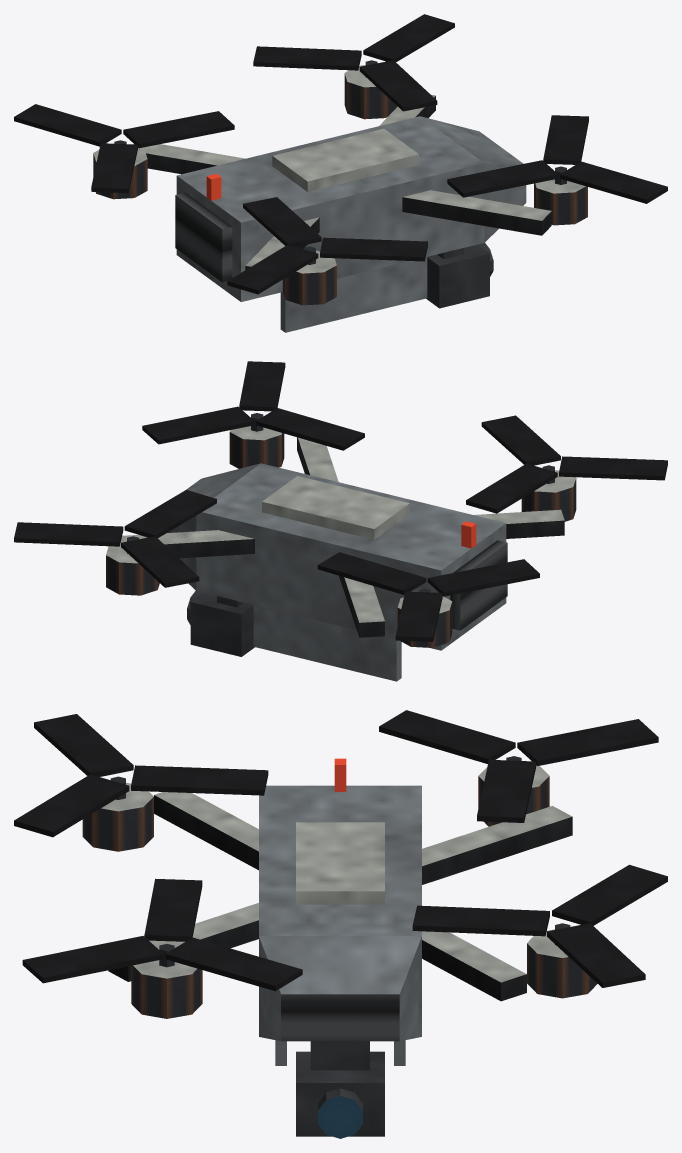
File: scout.obj
3 views of the same model, one above another, from view 1: azimuth 30°, elevation 25°; view 2: azimuth 150°, elevation 25°; view 3: azimuth 270°, elevation 25° (orthographic). The views are drawn at different scales.
Size of the model in its own units: 0.4401 by 0.16 by 0.4409.
2 materials, 2 textured.
